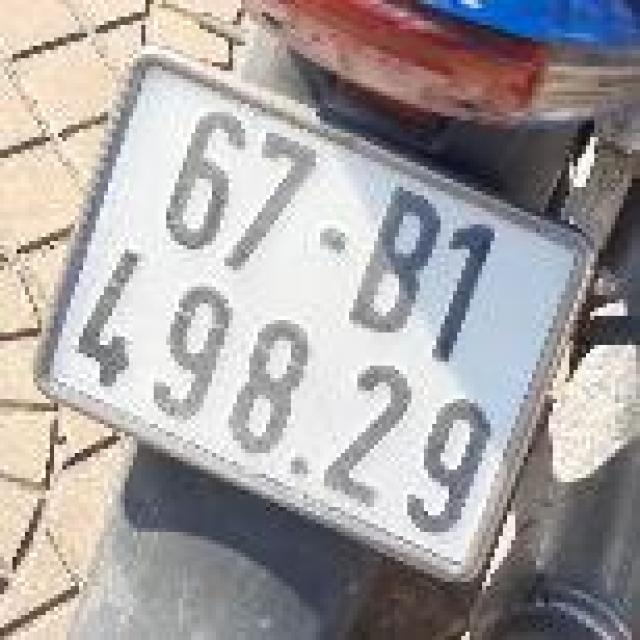1: (412, 211, 508, 375)
2: (311, 351, 423, 519)
4: (62, 233, 169, 399)
6: (147, 100, 260, 270)
7: (216, 124, 327, 293)
8: (217, 304, 325, 467)
9: (395, 382, 505, 553), (136, 276, 246, 435)
B: (339, 174, 454, 353)
